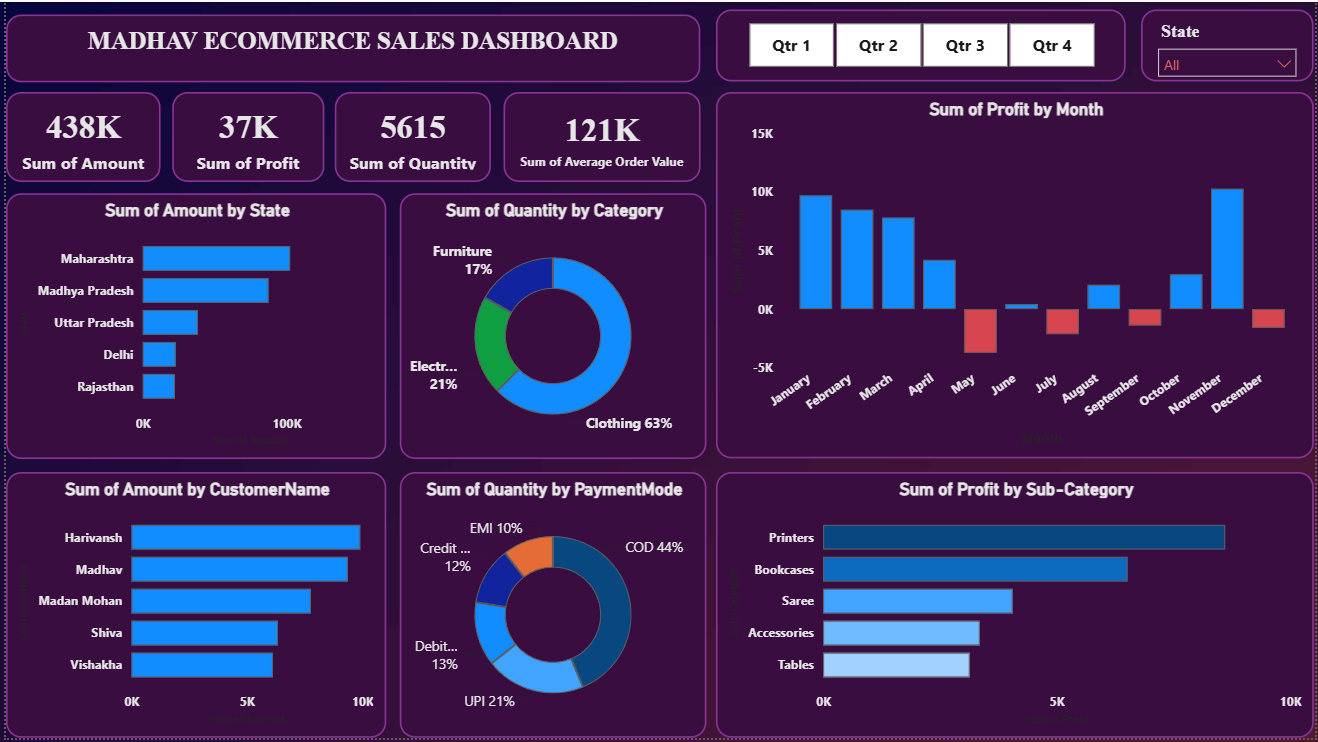

The page's visual inventory and layout, read from the dashboard file:
{"tool":"powerbi","page":{"name":"Page 1","canvas":[1280,720],"ordinal":0},"visuals":[{"type":"textbox","box":[0,11.8,678.9,66.1],"z":0},{"type":"lineStackedColumnComboChart","fields":{"Y":["Sum(Details.Profit)"],"Category":["Orders.Order Date.Variation.Date Hierarchy.Month"]},"box":[695,88.2,584.8,358.5],"z":1},{"type":"clusteredBarChart","fields":{"Category":["Details.Sub-Category"],"Y":["Sum(Details.Profit)"]},"box":[695,459.9,584.8,260.1],"z":2},{"type":"donutChart","fields":{"Y":["Sum(Details.Quantity)"],"Category":["Details.Category"]},"box":[385,186.6,299.8,260.1],"z":3},{"type":"donutChart","fields":{"Y":["Sum(Details.Quantity)"],"Category":["Details.PaymentMode"]},"box":[385,459.9,299.8,260.1],"z":4},{"type":"barChart","fields":{"Category":["Orders.CustomerName"],"Y":["Sum(Details.Amount)"]},"box":[0,459.9,371.8,260.1],"z":5},{"type":"clusteredBarChart","fields":{"Category":["Orders.State"],"Y":["Sum(Details.Amount)"]},"box":[0,186.6,371.8,260.1],"z":6},{"type":"card","fields":{"Values":["Sum(Details.Amount)"]},"box":[0,88.2,151.3,88.2],"z":7},{"type":"card","fields":{"Values":["Sum(Details.Profit)"]},"box":[163.1,88.2,148.4,88.2],"z":8},{"type":"card","fields":{"Values":["Sum(Details.Quantity)"]},"box":[321.8,88.2,152.8,88.2],"z":9},{"type":"card","fields":{"Values":["Sum(Details.Average Order Value)"]},"box":[486.4,88.2,192.5,88.2],"z":10},{"type":"slicer","fields":{"Values":["Orders.Order Date.Variation.Date Hierarchy.Quarter"]},"box":[695,7.3,401.1,70.5],"z":11},{"type":"slicer","fields":{"Values":["Orders.State"]},"box":[1110.9,7.3,169,70.5],"z":12}]}

Visuals, with their boxes in screenshot pixels (x1, y1, x2, y2), scaled from the page's 1280x720 canvas onto the 1318x742 screenshot:
textbox: (left=0, top=12, right=699, bottom=80)
lineStackedColumnComboChart - Sum(Details.Profit) x Orders.Order Date.Variation.Date Hierarchy.Month: (left=716, top=91, right=1317, bottom=460)
clusteredBarChart - Details.Sub-Category x Sum(Details.Profit): (left=716, top=474, right=1317, bottom=741)
donutChart - Sum(Details.Quantity) x Details.Category: (left=396, top=192, right=705, bottom=460)
donutChart - Sum(Details.Quantity) x Details.PaymentMode: (left=396, top=474, right=705, bottom=741)
barChart - Orders.CustomerName x Sum(Details.Amount): (left=0, top=474, right=383, bottom=741)
clusteredBarChart - Orders.State x Sum(Details.Amount): (left=0, top=192, right=383, bottom=460)
card - Sum(Details.Amount): (left=0, top=91, right=156, bottom=182)
card - Sum(Details.Profit): (left=168, top=91, right=321, bottom=182)
card - Sum(Details.Quantity): (left=331, top=91, right=489, bottom=182)
card - Sum(Details.Average Order Value): (left=501, top=91, right=699, bottom=182)
slicer - Orders.Order Date.Variation.Date Hierarchy.Quarter: (left=716, top=8, right=1129, bottom=80)
slicer - Orders.State: (left=1144, top=8, right=1317, bottom=80)
